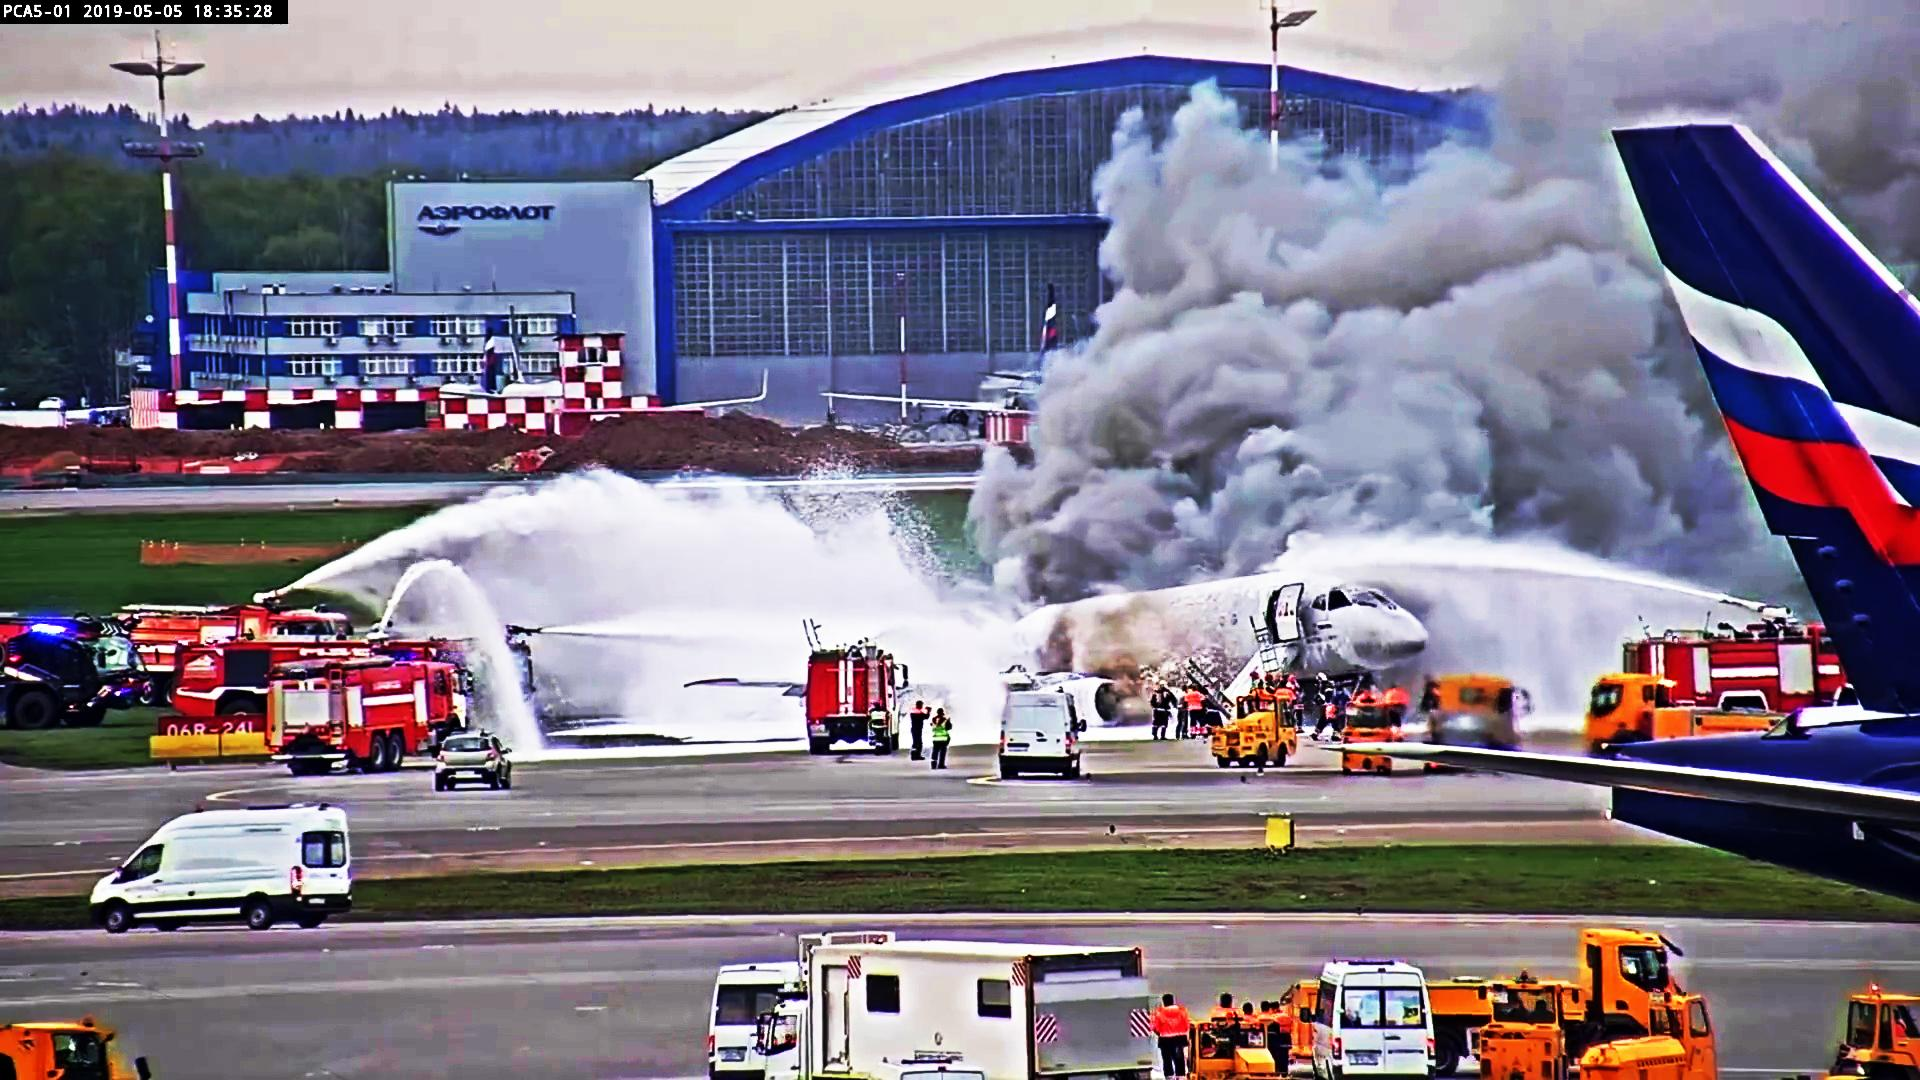smoke: (1141, 131, 1613, 491)
